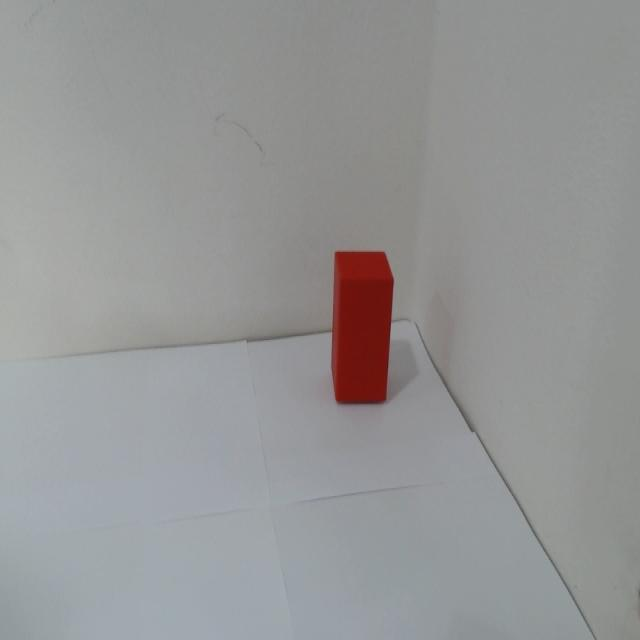cube: (328, 246, 396, 406)
